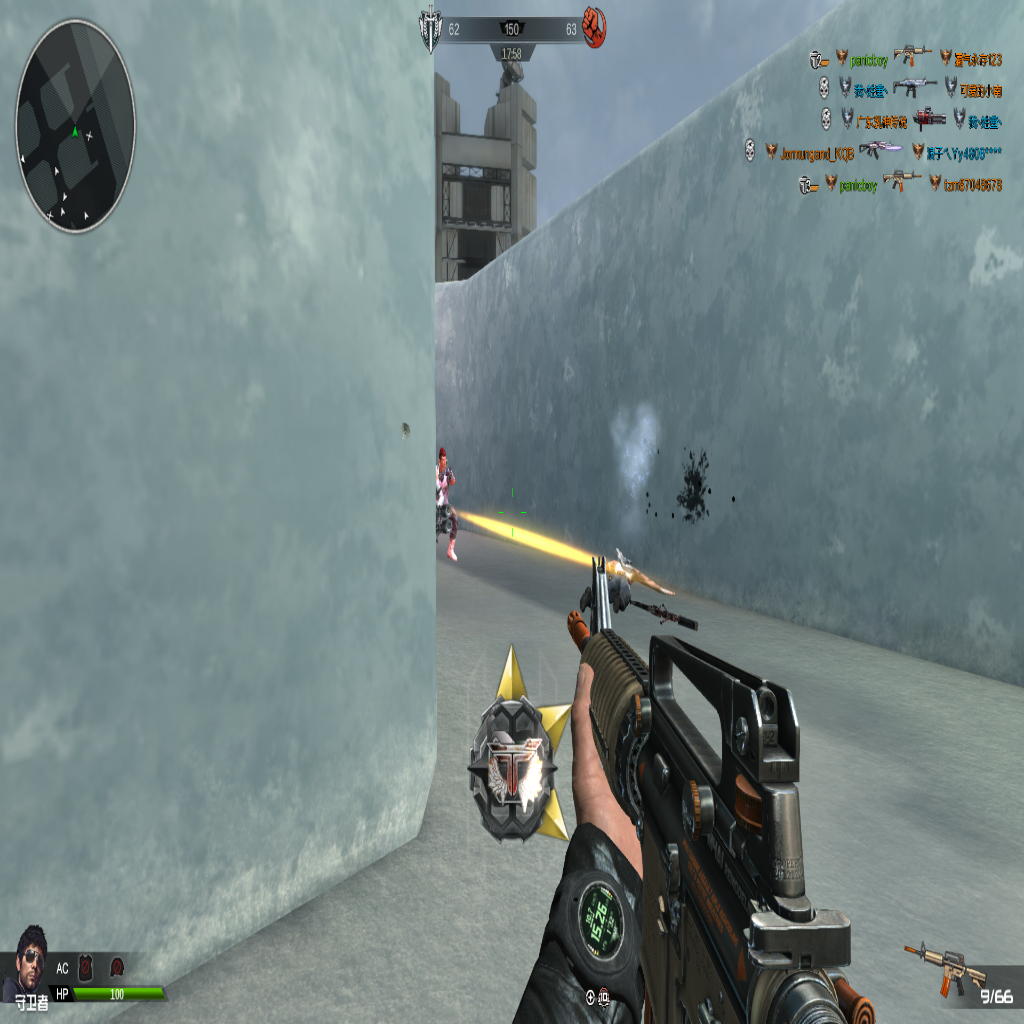tt: (435, 448, 457, 552)
